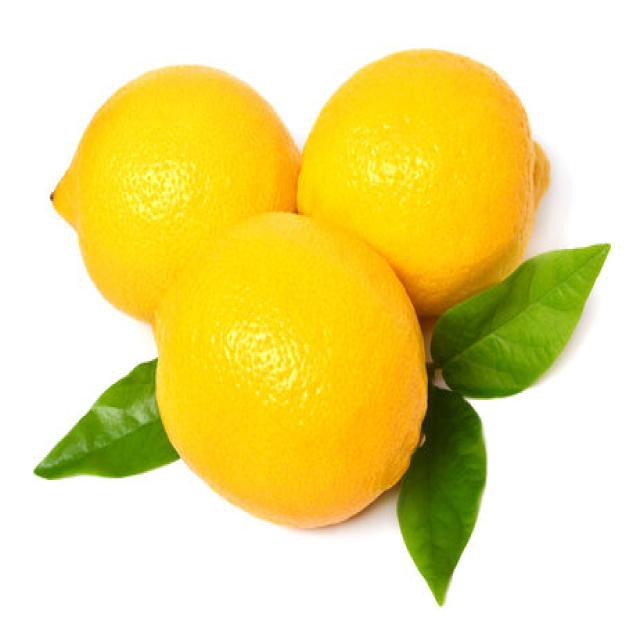Lemon: (151, 208, 428, 530), (295, 46, 550, 316), (48, 62, 300, 326)
